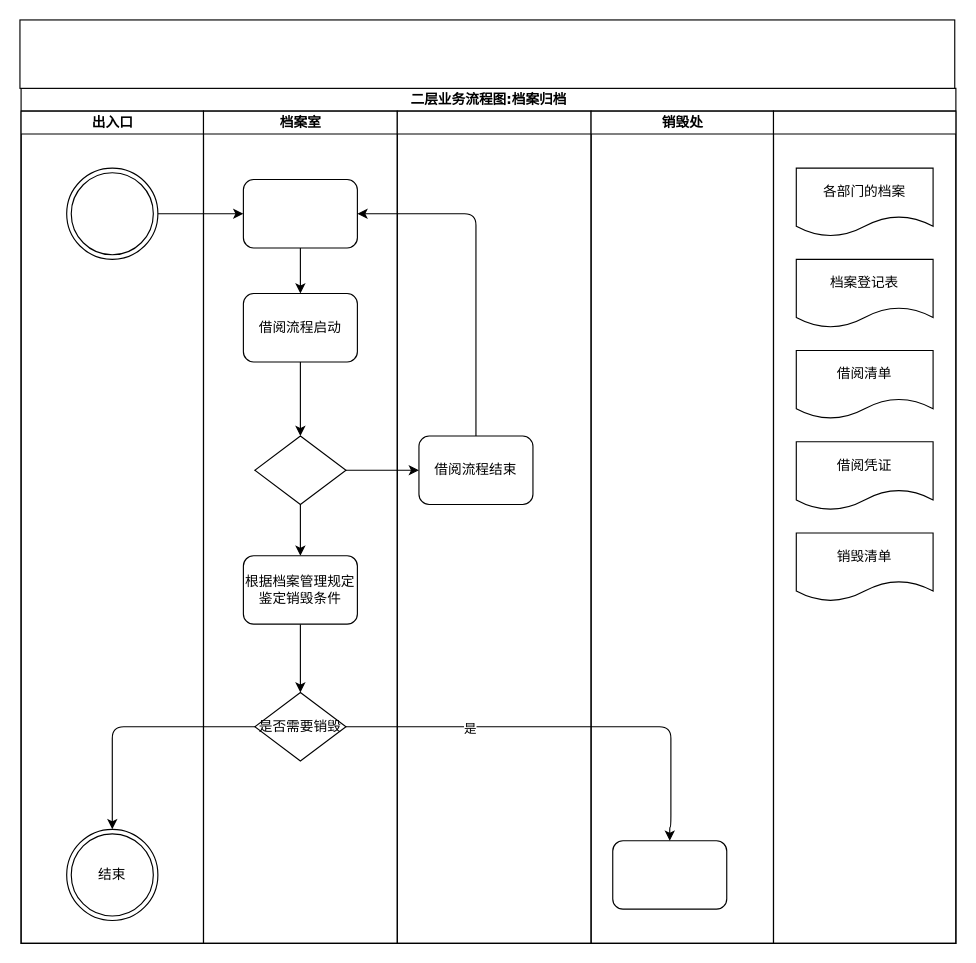
This 976x963 diagram has some shape labels left out. The box of each missing label's shape, as (x1, y1, x2, y2) in pixels:
业务名称：中科院遗传与发育研究所档案归档业务流程图 流程编号：da0103 级别：二级 启动部门：档案室: (19, 19, 955, 88)
借阅处: (396, 110, 591, 943)
开始: (66, 167, 158, 259)
归档: (242, 178, 357, 248)
提交到销毁处: (612, 840, 727, 909)
是否借阅: (254, 435, 346, 504)
表单: (772, 110, 956, 943)
